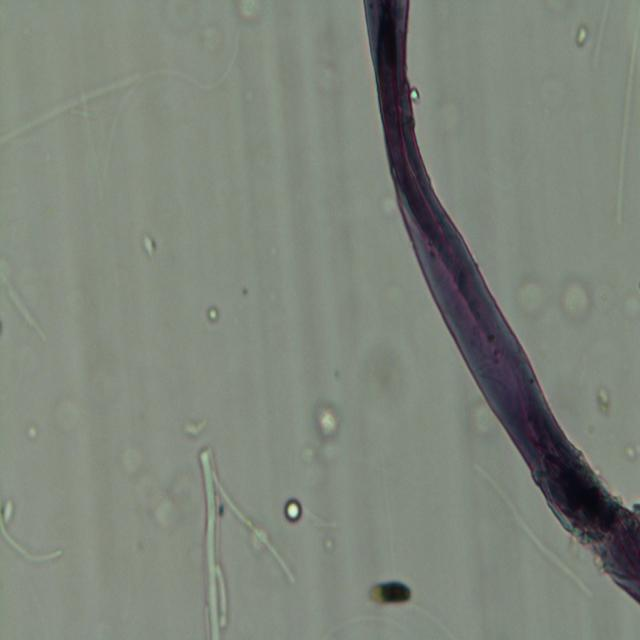Background material: (298, 440, 334, 553), (359, 326, 411, 404), (136, 470, 193, 535), (304, 42, 344, 107), (356, 575, 414, 610), (466, 394, 502, 444), (516, 276, 552, 318), (562, 277, 594, 322), (592, 0, 612, 67), (314, 398, 342, 438), (199, 12, 225, 53), (382, 277, 408, 312), (593, 378, 614, 418), (182, 412, 214, 438), (120, 446, 142, 474), (621, 292, 640, 324), (0, 492, 18, 525), (284, 494, 302, 522), (138, 232, 156, 256), (623, 433, 640, 458), (574, 24, 589, 47), (204, 304, 220, 323), (24, 424, 38, 439), (410, 84, 420, 104)
Cotton: (361, 0, 640, 597)
Glass filter fibre: (464, 455, 594, 597), (106, 21, 248, 140), (0, 69, 136, 152), (215, 477, 295, 584), (194, 442, 230, 640), (613, 31, 640, 228), (0, 267, 48, 345), (0, 515, 61, 569), (320, 612, 412, 640), (410, 605, 456, 640), (234, 0, 267, 29)
